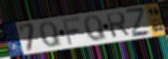7: (18, 22, 37, 53)
F: (61, 16, 82, 46)
Q: (38, 20, 65, 48), (83, 14, 109, 42)
R: (104, 11, 131, 40)
Z: (123, 7, 153, 39)
